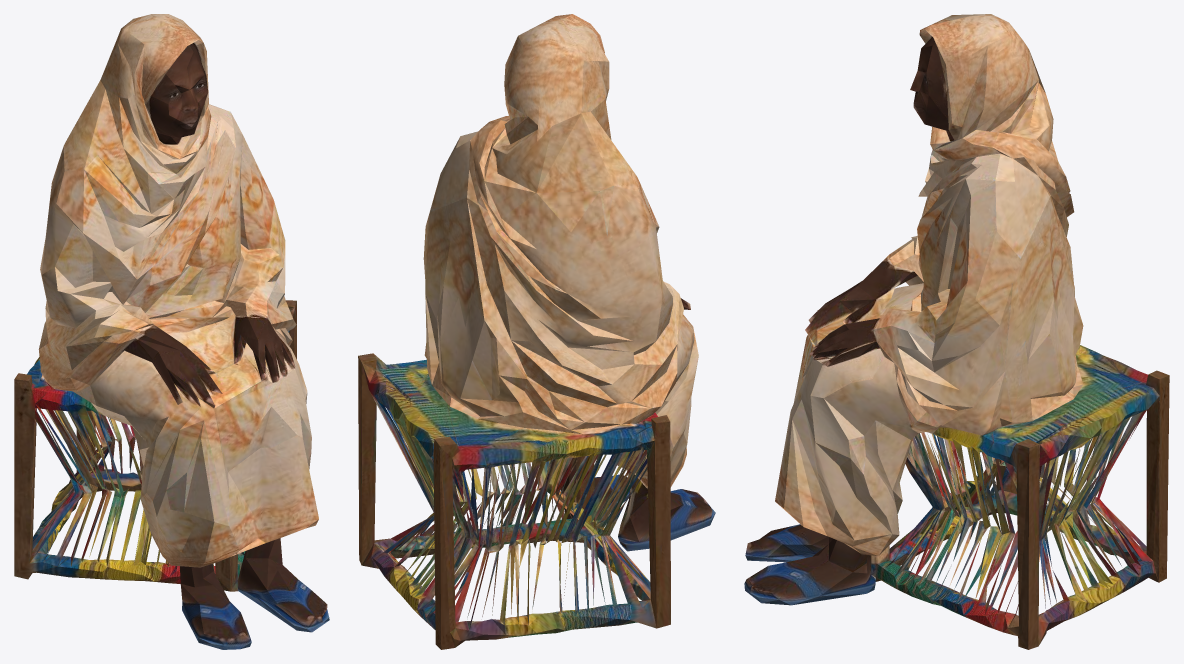
File: tealady.glb
3 renders of one model, left to right at view 1: azimuth 30°, elevation 25°; view 2: azimuth 150°, elevation 25°; view 3: azimuth 270°, elevation 25°, orthographic. The views are drawn at different scales.
Bounding box in the file's own units: 1.08 × 1.9 × 1.32.
1 material, 1 textured.
